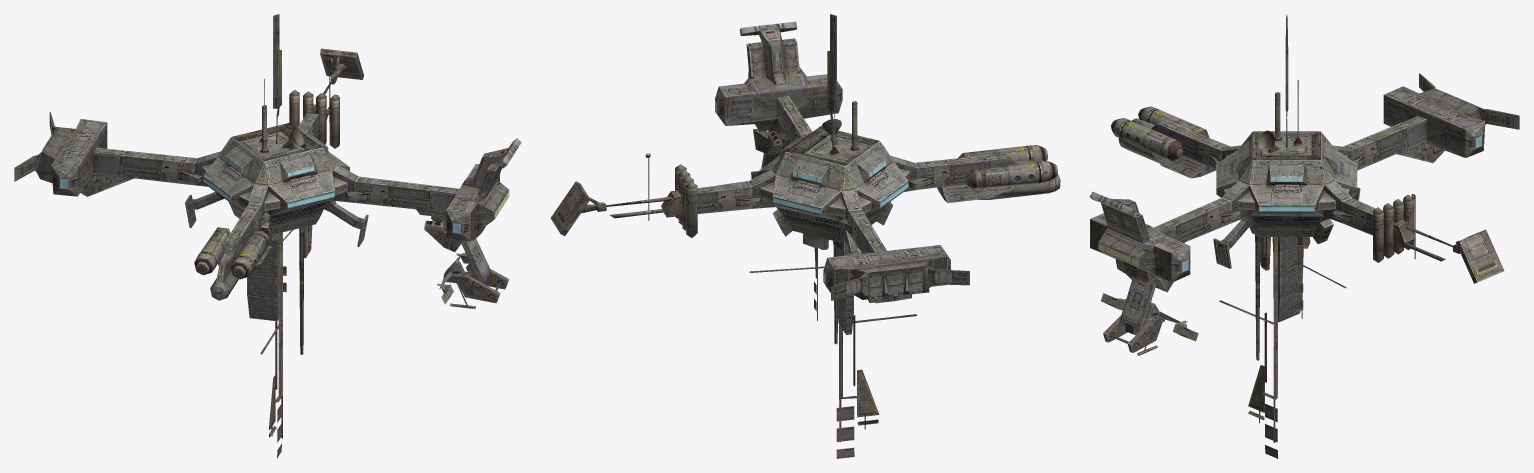
The model's file is spacestation_outpost_rebel_s01_l2.fbx.
3 renders of one model, left to right at view 1: azimuth 30°, elevation 25°; view 2: azimuth 150°, elevation 25°; view 3: azimuth 270°, elevation 25°, orthographic. The views are drawn at different scales.
Parts seen in each view (by area): view 1: mesh_node; view 2: mesh_node; view 3: mesh_node.
Boxes of the visible parts, box(x1,y1,x2,y2) form: mesh_node: box(14, 14, 521, 458); mesh_node: box(550, 14, 1060, 458); mesh_node: box(1089, 14, 1519, 458).
Size of the model in its own units: 309 by 339 by 298.
